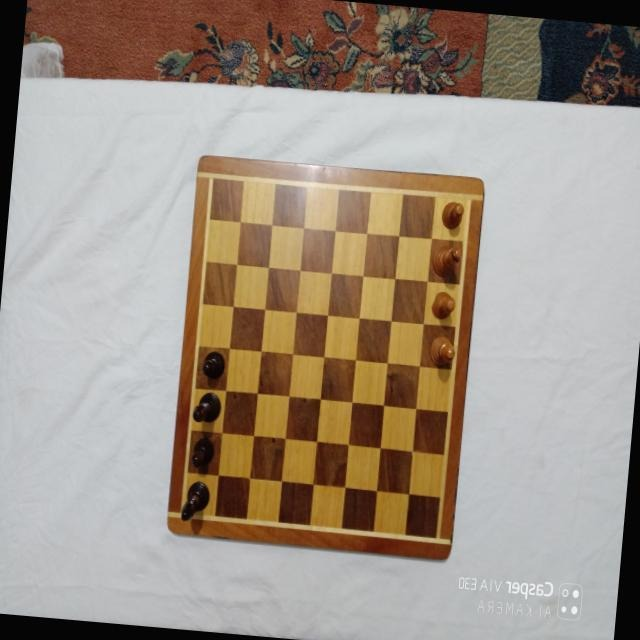black-bishop: (181, 479, 211, 523), (190, 390, 221, 424)
black-pawn: (189, 435, 214, 469), (200, 349, 226, 381)
white-bishop: (430, 243, 463, 278), (427, 333, 456, 367)
white-pawn: (430, 289, 457, 321), (440, 198, 464, 230)
